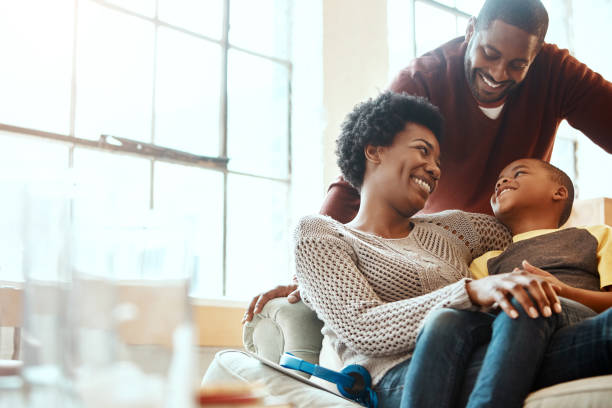without mask: (372, 114, 452, 210), (489, 138, 569, 234), (465, 1, 545, 97)
